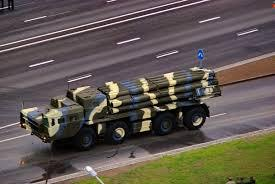MIL_SAM_TEL: (17, 66, 223, 154)
